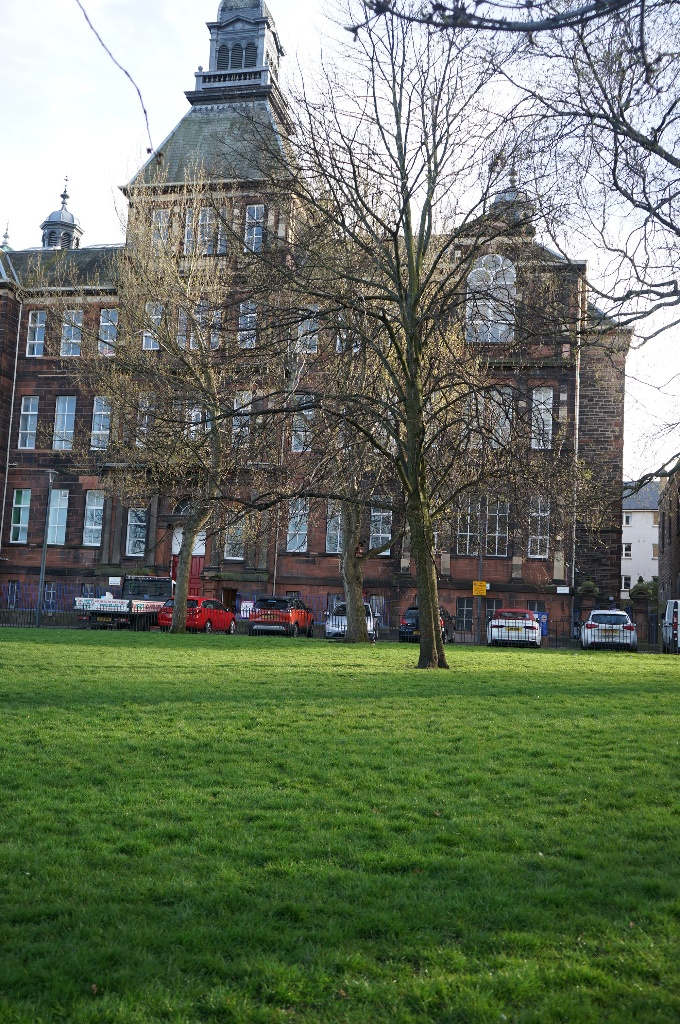Tree: (17, 30, 632, 684)
